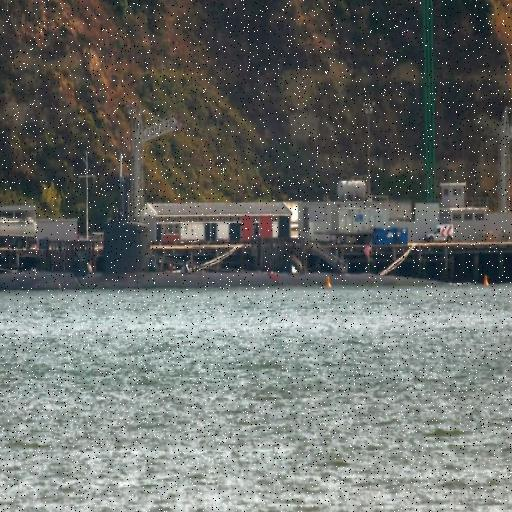submarine: (1, 217, 412, 293)
